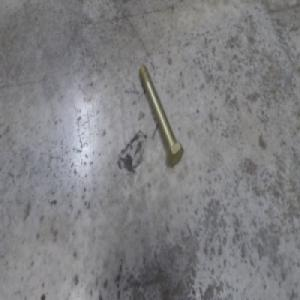Bolt: (137, 62, 182, 167)
